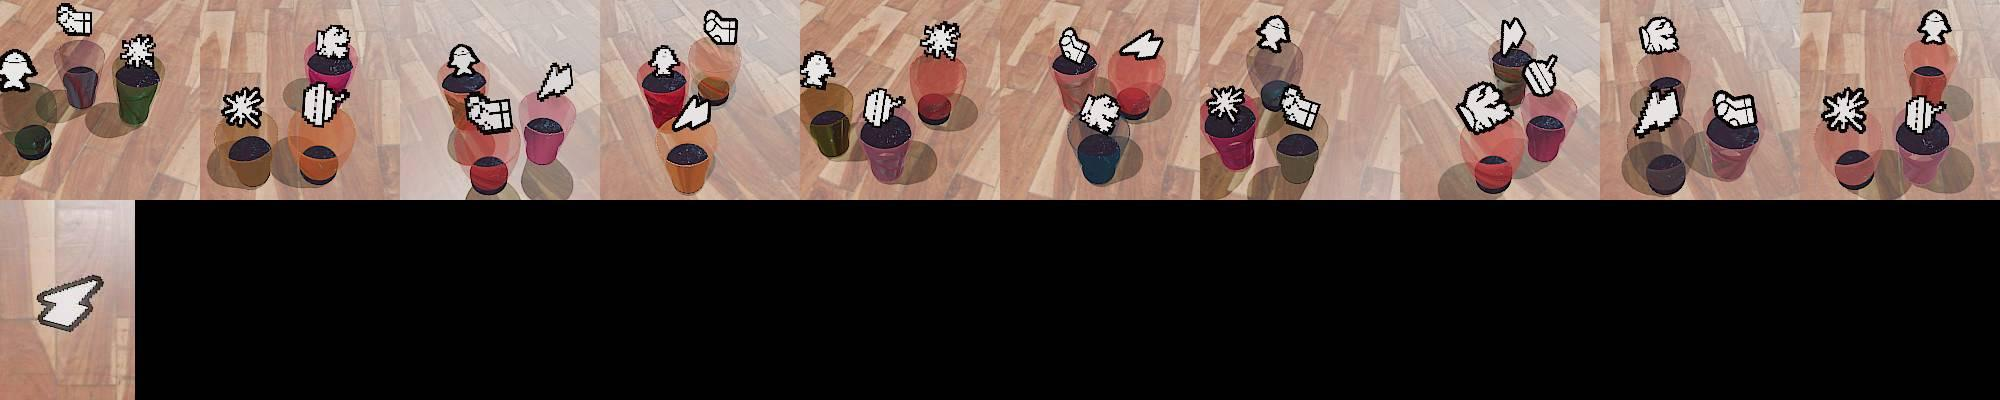icon: (34, 274, 105, 333), (1455, 80, 1516, 135), (1631, 76, 1683, 137), (1821, 85, 1870, 134), (300, 80, 346, 127), (218, 85, 264, 129), (1077, 90, 1122, 134), (1278, 84, 1321, 130), (465, 94, 514, 133), (863, 86, 907, 129), (1522, 54, 1562, 98), (1712, 89, 1757, 128), (919, 20, 960, 61), (672, 90, 712, 131), (1207, 85, 1248, 125), (1639, 16, 1680, 55), (0, 49, 37, 92), (800, 49, 838, 90), (1903, 94, 1942, 133), (538, 60, 575, 100), (1254, 14, 1290, 54), (314, 24, 351, 62), (1916, 9, 1954, 46), (1059, 26, 1094, 66), (1119, 29, 1164, 60), (119, 33, 157, 69), (55, 3, 94, 37), (704, 9, 739, 46), (647, 44, 682, 77), (446, 43, 481, 75), (1499, 17, 1526, 57)
